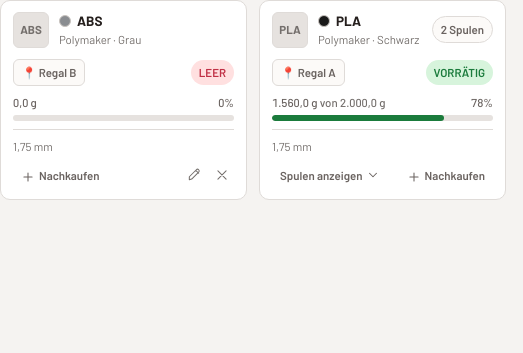
FilamentDashboard grouped cards › expands to the single spools with aria-expanded and collapses again
This screenshot has width=523, height=353.
Click the button with aria-label "PLA Schwarz: Spulen anzeigen": x=330, y=175 [272, 163, 388, 187]
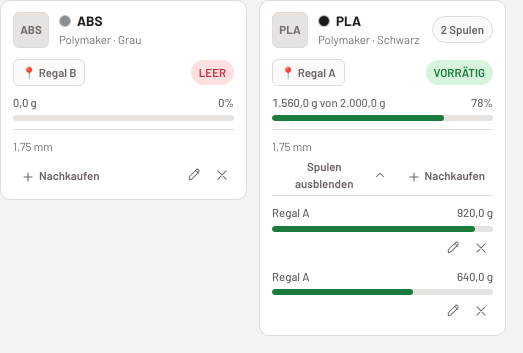
Check: the button named "PLA Schwarz: Spulen anzeigen" is expanded
Check: the list item with test id "spool-row-a1" shows "920,0 g", box [457, 205, 493, 219]
Check: the list item with test id "spool-row-a2" shows "640,0 g", box [457, 268, 493, 282]
Click the button named "PLA Schwarz: Spulen anzeigen": x=333, y=175 [272, 163, 394, 187]
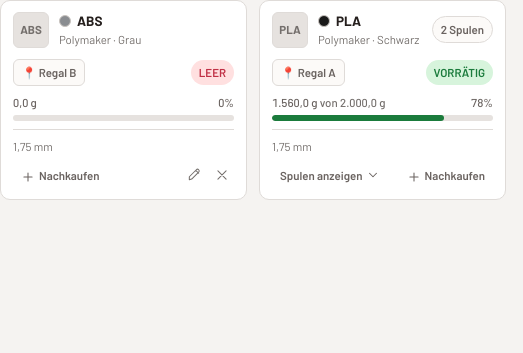
Check: the button with aria-label "PLA Schwarz: Spulen anzeigen" is collapsed, box [272, 163, 388, 187]
Check: the list item with test id "spool-row-a1" is gone
